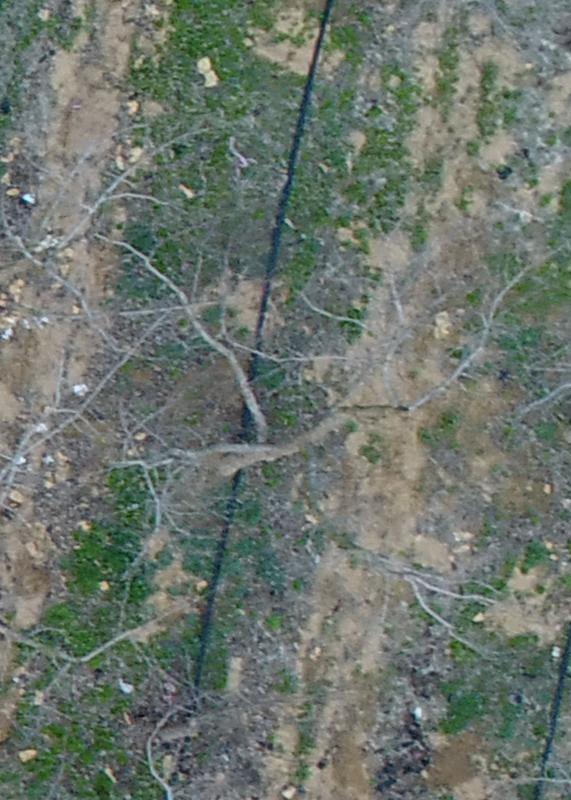apple: (117, 242, 561, 491), (10, 388, 196, 708), (10, 122, 220, 387), (289, 496, 530, 670)
